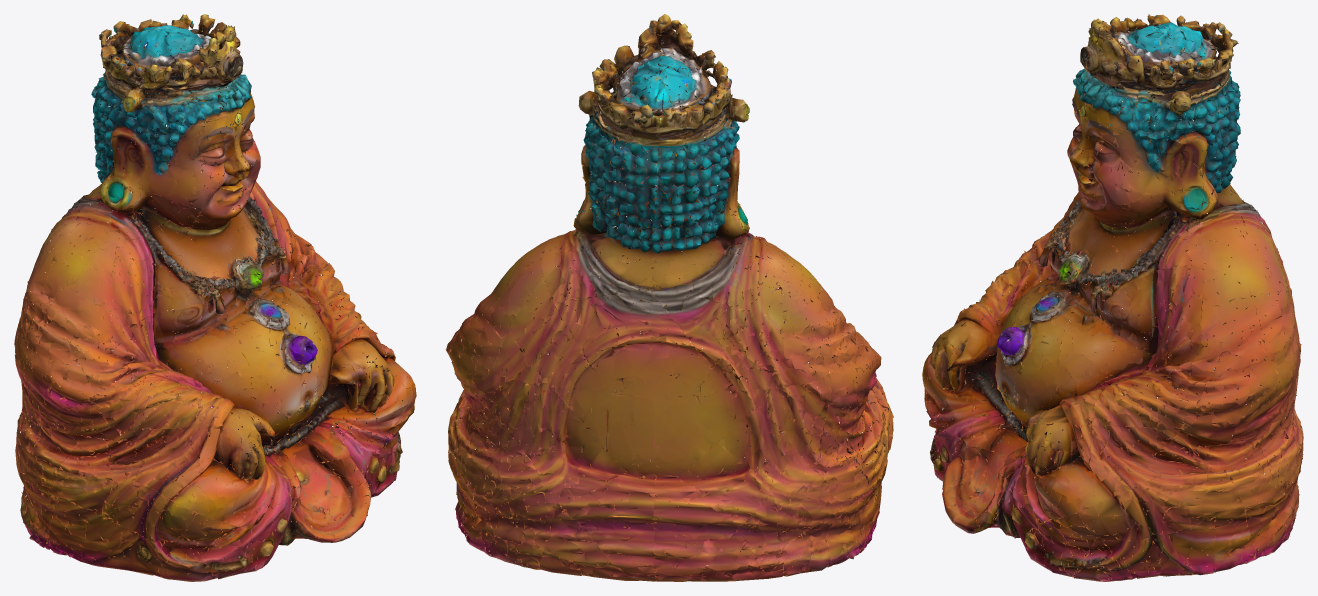
3 views of the same model, side by side, from view 1: azimuth 30°, elevation 25°; view 2: azimuth 150°, elevation 25°; view 3: azimuth 270°, elevation 25° (orthographic). The views are drawn at different scales.
Parts seen in each view (by area): view 1: statue-039; view 2: statue-039; view 3: statue-039.
Part boxes in pixels (x1,y1,x2,y2): statue-039: (14, 14, 416, 581); statue-039: (445, 14, 893, 581); statue-039: (922, 14, 1303, 581).
Size of the model in its own units: 0.8302 by 1.01 by 0.7204.
1 material, 1 textured.
